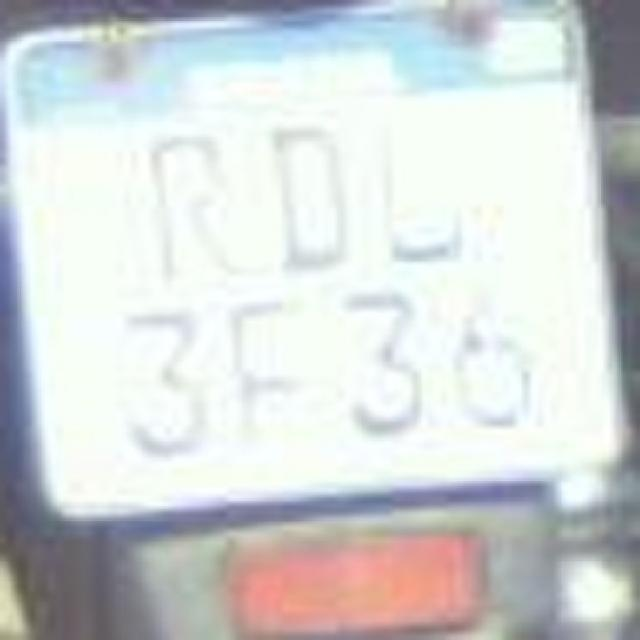3: (280, 256, 472, 464), (64, 271, 244, 464)
5: (308, 269, 460, 456), (428, 280, 560, 465)
F: (175, 260, 360, 472)
L: (352, 108, 496, 284)
